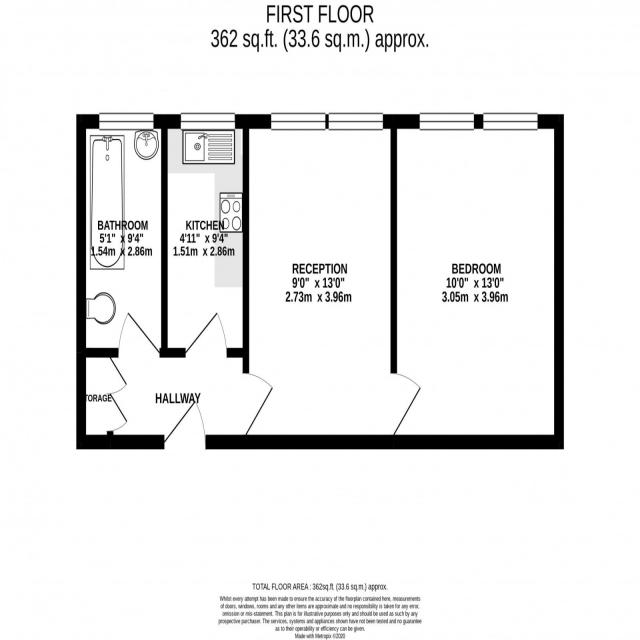DOOR: (163, 397, 208, 451), (184, 309, 229, 360), (241, 370, 275, 437), (117, 310, 161, 360), (390, 371, 422, 436)
ROOM: (241, 112, 422, 450), (390, 112, 564, 450), (161, 111, 250, 358)
WINDOW: (98, 111, 156, 132), (180, 112, 236, 132), (328, 111, 384, 131), (419, 112, 474, 131), (483, 112, 538, 131), (271, 112, 326, 131)
